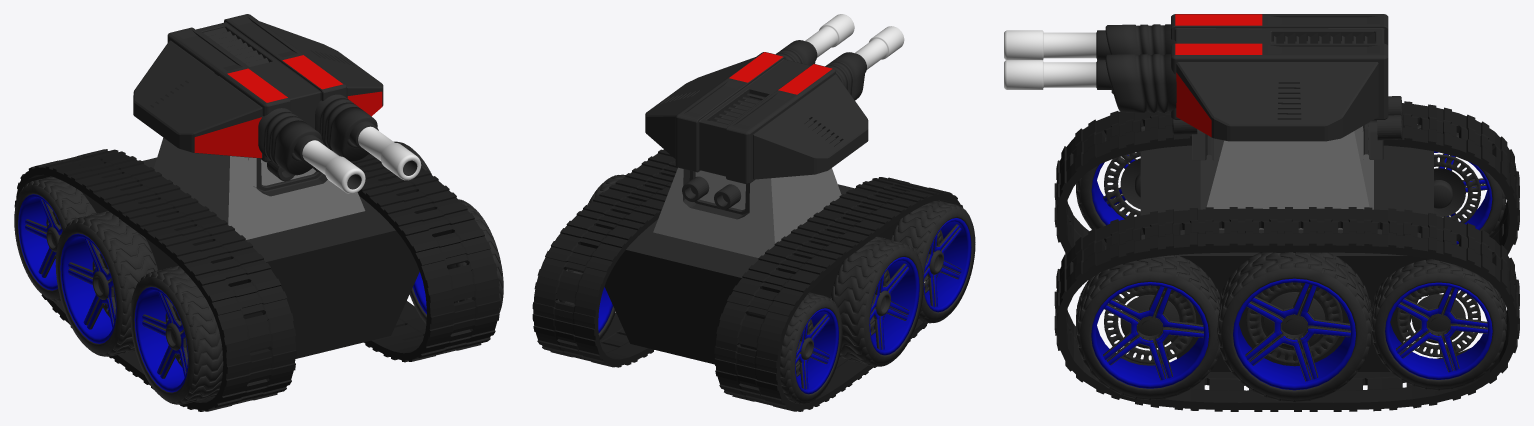
Rendered from tanktaret4.fbx.
The picture shows the model from 3 angles, left to right: view 1: azimuth 30°, elevation 25°; view 2: azimuth 150°, elevation 25°; view 3: azimuth 270°, elevation 25°; orthographic projection. The views are drawn at different scales.
Parts seen in each view (by area): view 1: Cube.002, Plane, Cube.001; view 2: Plane, Cube.002, Cube.001; view 3: Cube.002, Plane, Cube.001.
Part boxes in pixels (bbox=[...]): Cube.002: bbox=[14, 141, 503, 404]; Plane: bbox=[133, 14, 421, 239]; Cube.001: bbox=[14, 149, 500, 411]; Plane: bbox=[645, 14, 904, 257]; Cube.002: bbox=[558, 174, 975, 404]; Cube.001: bbox=[532, 149, 962, 411]; Cube.002: bbox=[1076, 111, 1506, 402]; Plane: bbox=[1004, 14, 1402, 229]; Cube.001: bbox=[1054, 101, 1519, 411].
Size of the model in its own units: 474 by 386 by 595.
